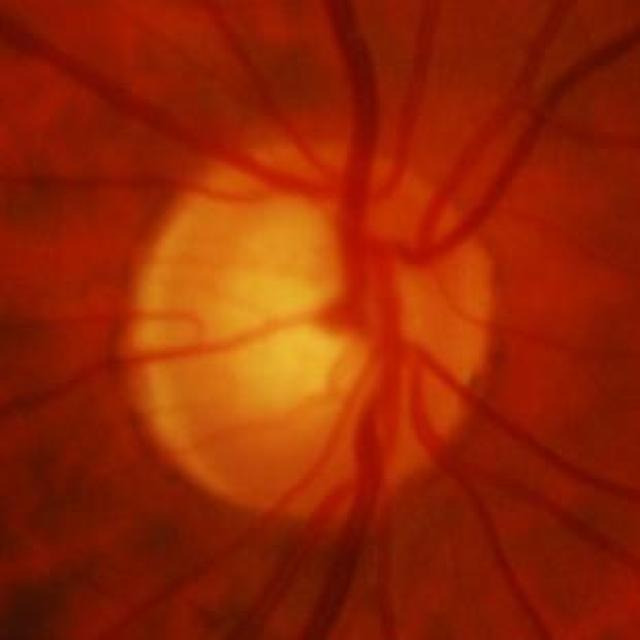OC: (216, 211, 419, 415)
OD: (127, 138, 498, 522)
